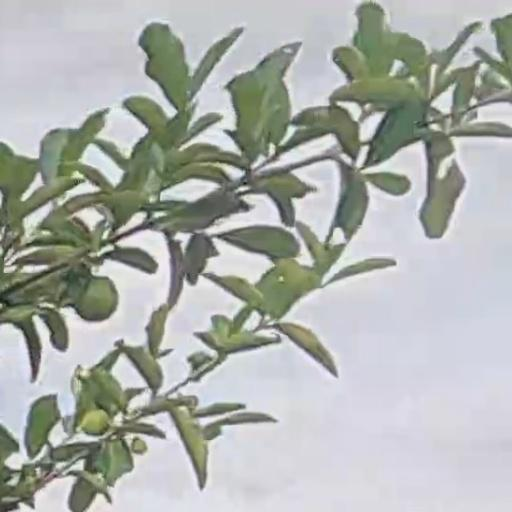acerola_verde: (76, 276, 117, 320)
